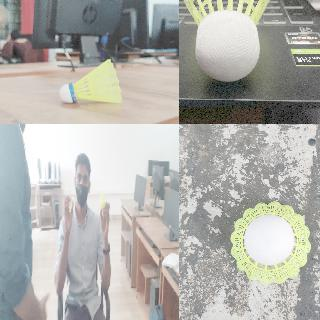shuttlecock: (179, 0, 278, 82), (230, 200, 310, 284), (59, 59, 121, 103), (99, 192, 106, 211)
